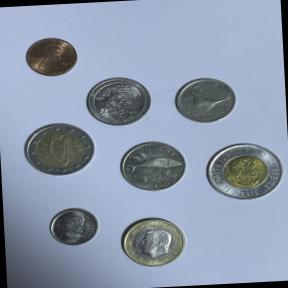coin: (196, 131, 288, 212), (110, 209, 198, 276), (16, 119, 97, 180), (115, 137, 193, 197), (81, 72, 156, 132), (14, 28, 84, 83), (44, 200, 108, 252)
